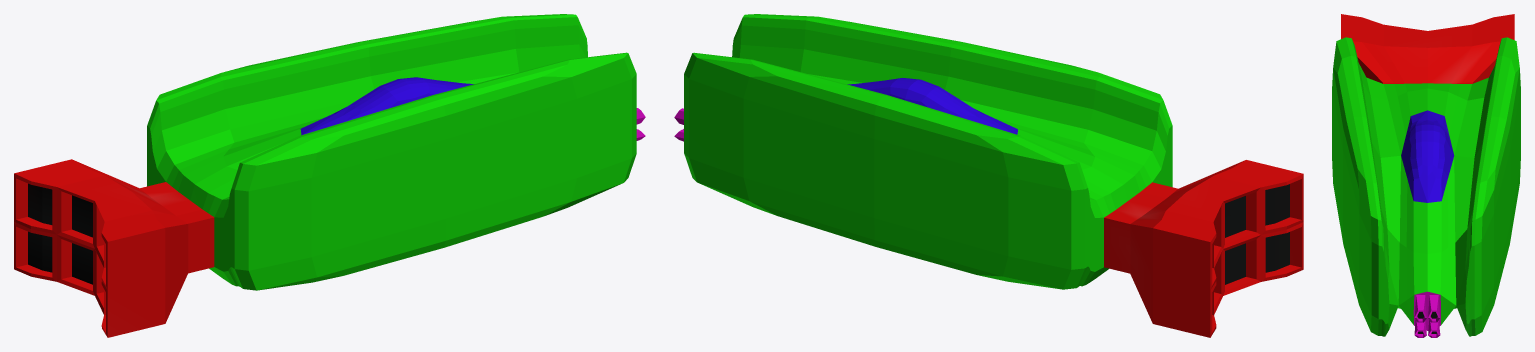
File: Enemy Ship 2.fbx
3 renders of one model, left to right at view 1: azimuth 30°, elevation 25°; view 2: azimuth 150°, elevation 25°; view 3: azimuth 270°, elevation 25°, orthographic. The views are drawn at different scales.
Parts seen in each view (by area): view 1: Enemy Ship 2; view 2: Enemy Ship 2; view 3: Enemy Ship 2.
Part boxes in pixels (x1,y1,x2,y2): Enemy Ship 2: (14, 14, 645, 337); Enemy Ship 2: (674, 14, 1303, 337); Enemy Ship 2: (1332, 14, 1520, 337).
Bounding box in the file's own units: 802 × 201 × 244.
